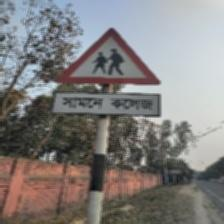College-in-front: (48, 7, 171, 133)
